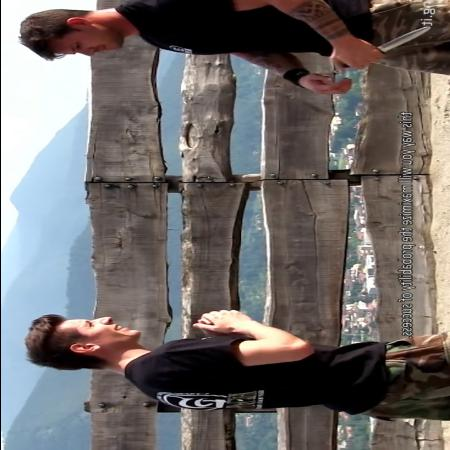long weapon: (330, 24, 430, 72)
